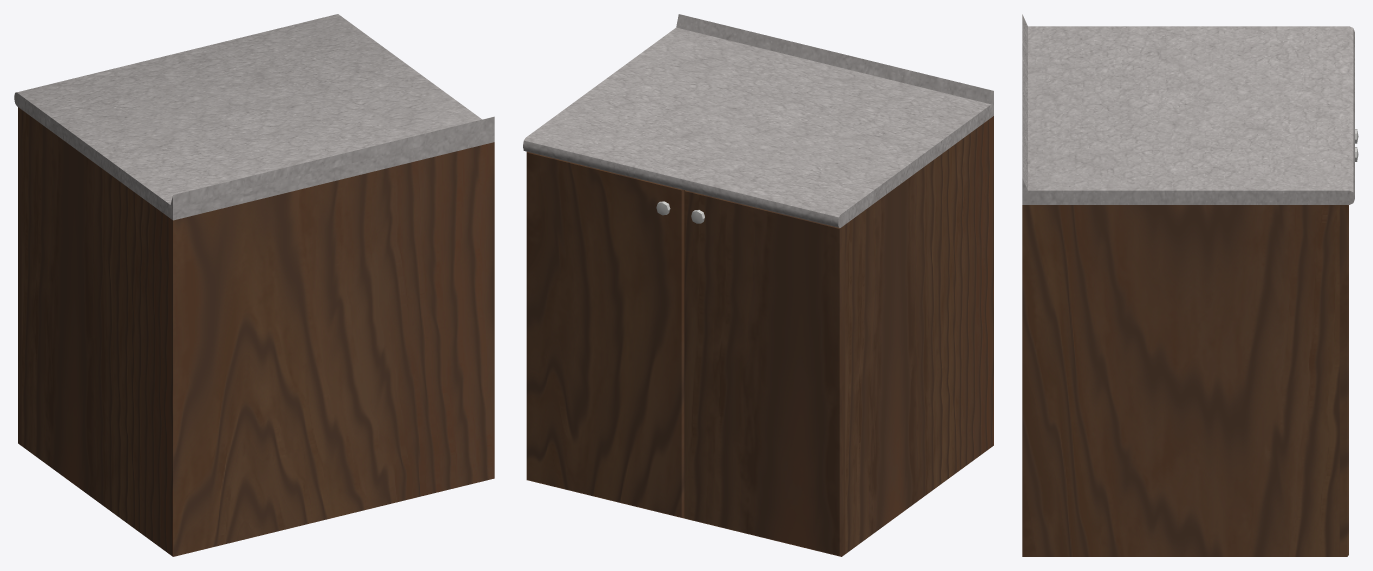
File: cabinet.glb
3 views of the same model, side by side, from view 1: azimuth 30°, elevation 25°; view 2: azimuth 150°, elevation 25°; view 3: azimuth 270°, elevation 25° (orthographic). The views are drawn at different scales.
Parts seen in each view (by area): view 1: KitchenCabinet1; view 2: KitchenCabinet1; view 3: KitchenCabinet1.
Boxes of the visible parts, x1,y1,x2,y2 form: KitchenCabinet1: [14, 14, 494, 556]; KitchenCabinet1: [523, 14, 993, 556]; KitchenCabinet1: [1022, 14, 1358, 556].
Bounding box in the file's own units: 0.8 × 0.8606 × 0.6921.
1 material, 1 textured.
